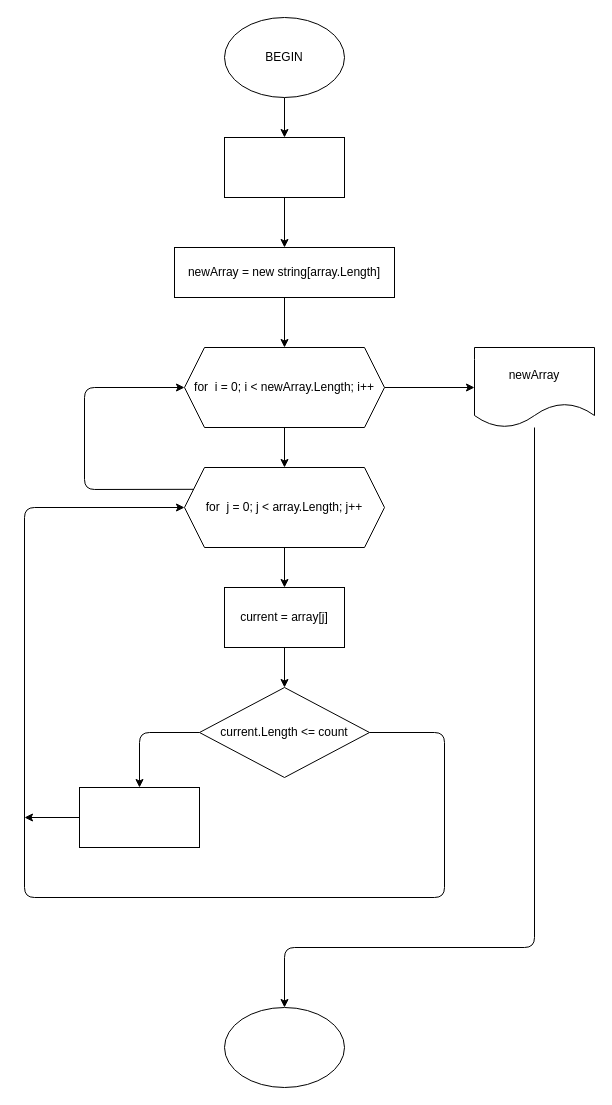
This 612x1105 diagram has some shape labels left out. The shapes that lost their labels are listed below. From the top down, each one's centre as x and y in pixels, then its label:
the point at 284,167: count = 3 array [string] newArray [string] current
the point at 139,817: newArray[j] = current
the point at 284,1047: END
